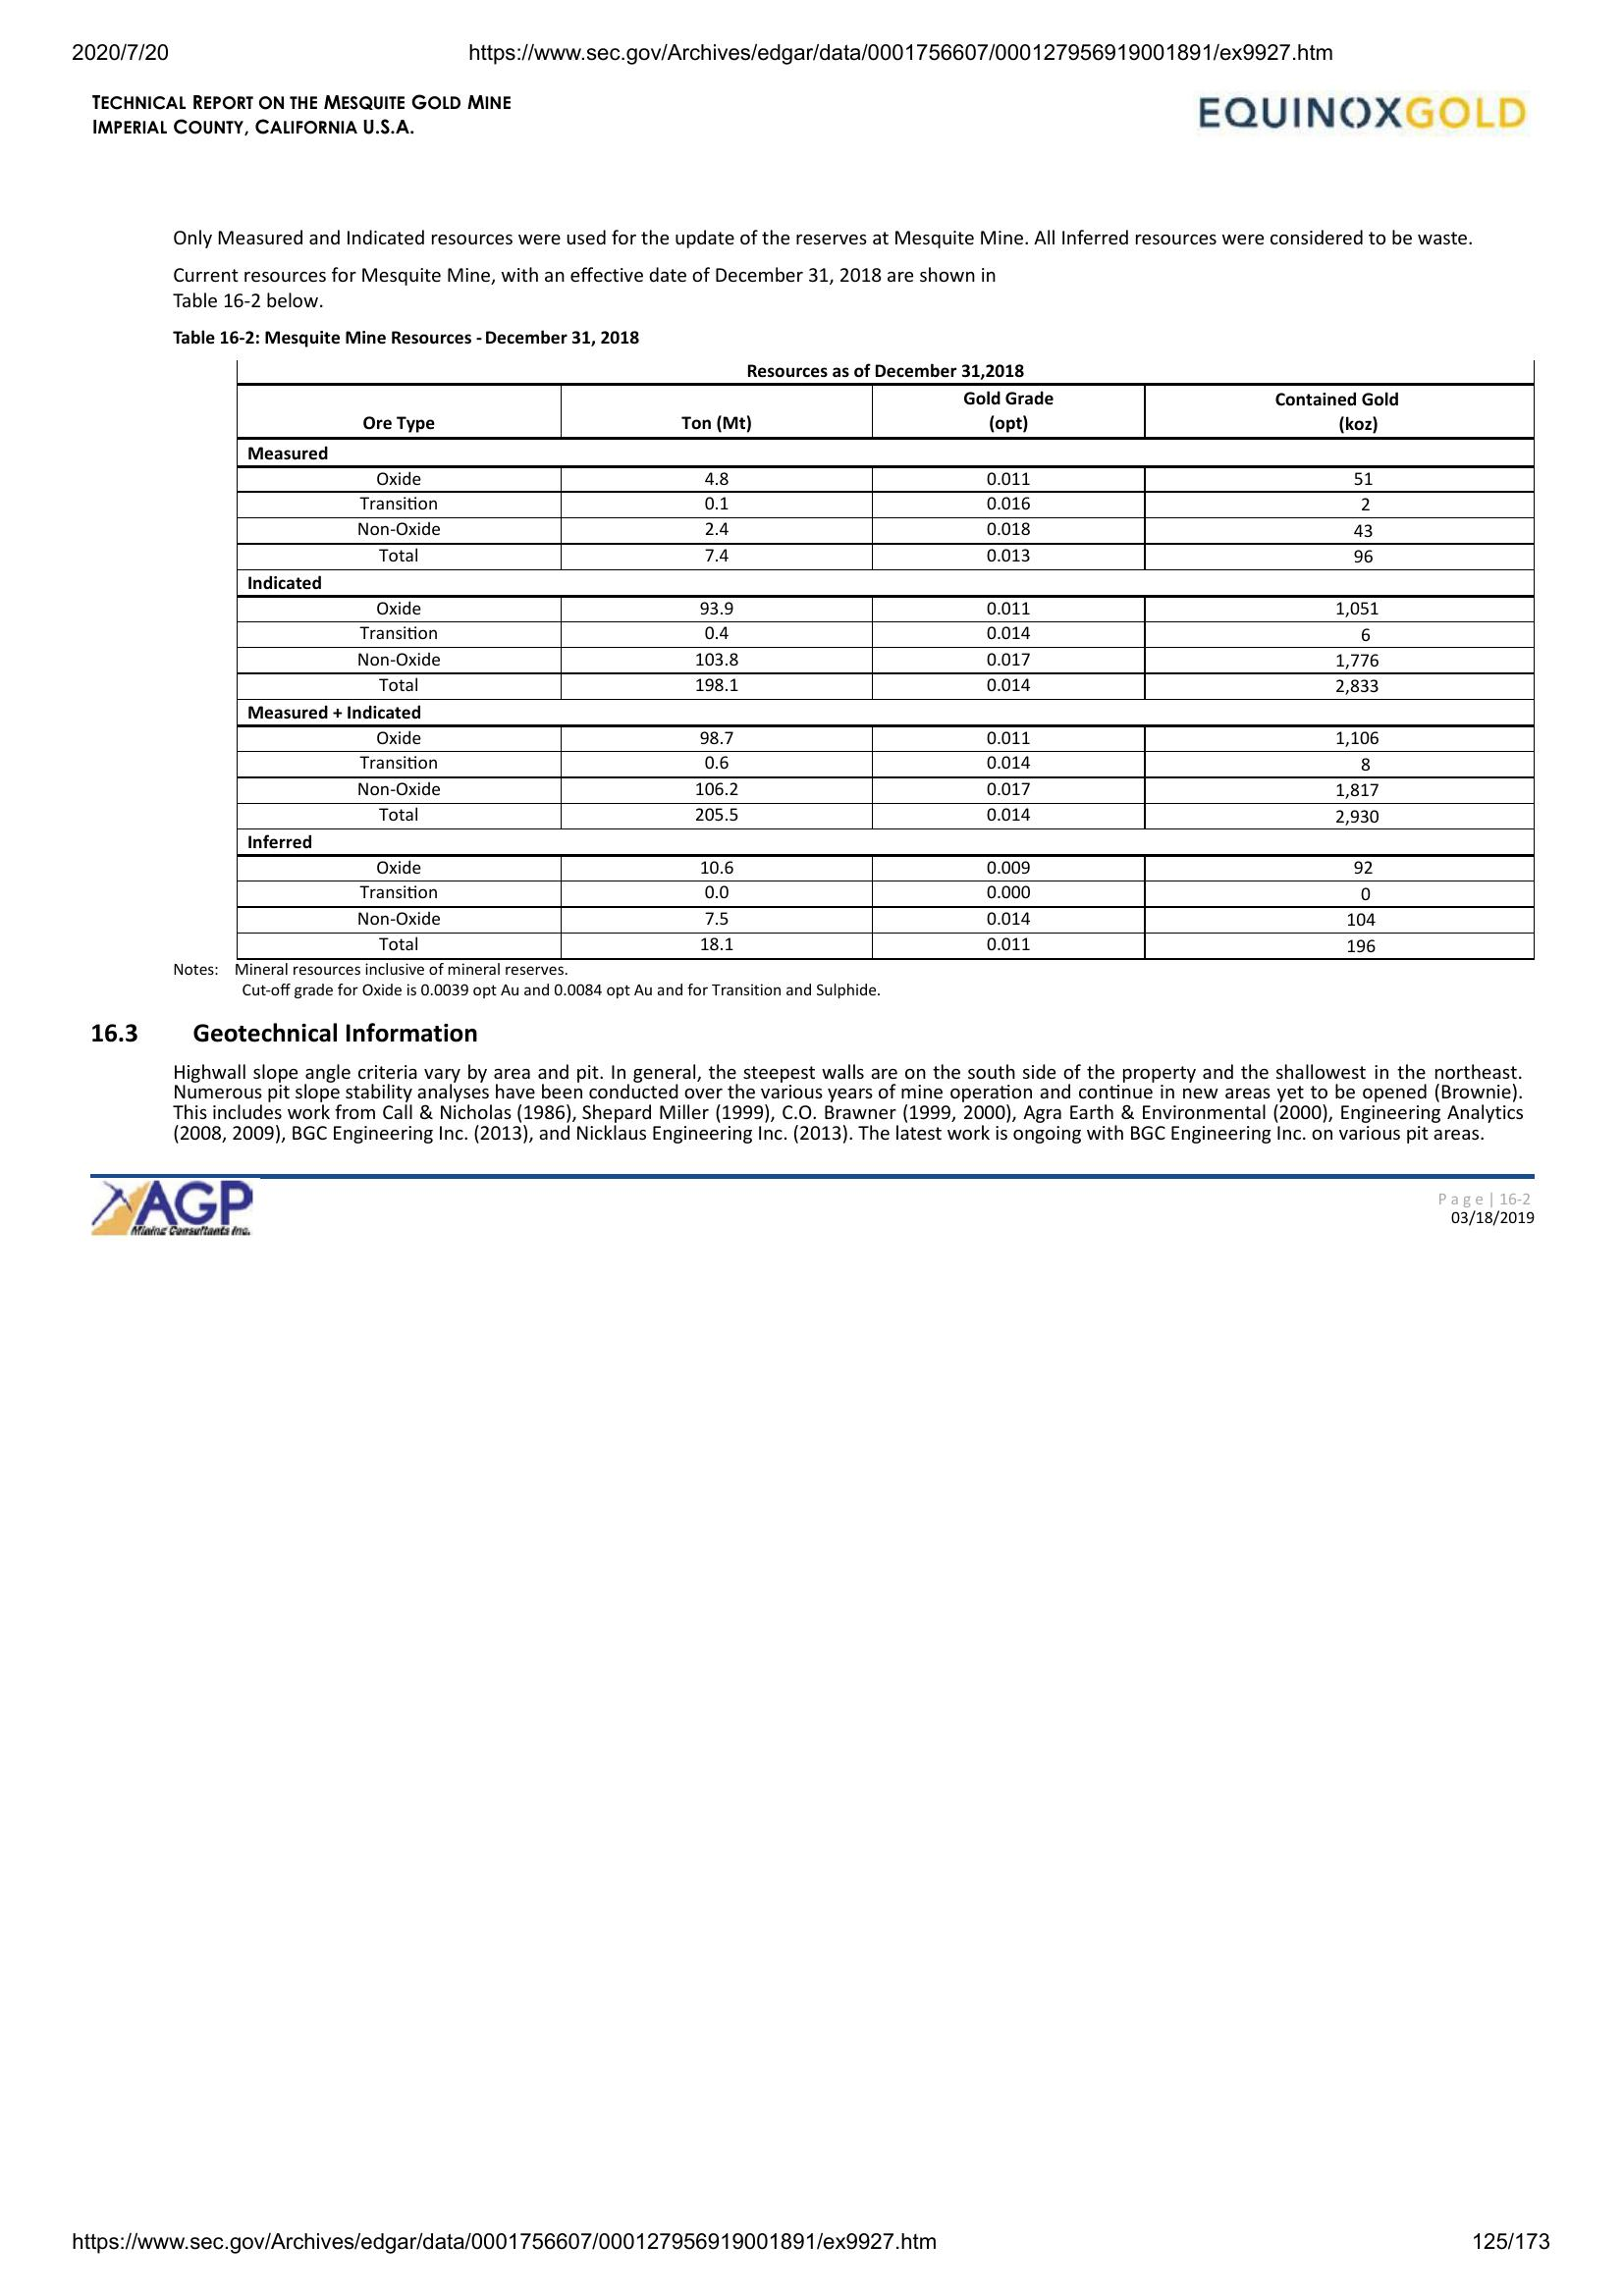table: (228, 353, 1544, 967)
